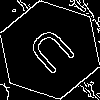U: (25, 25, 84, 84)
